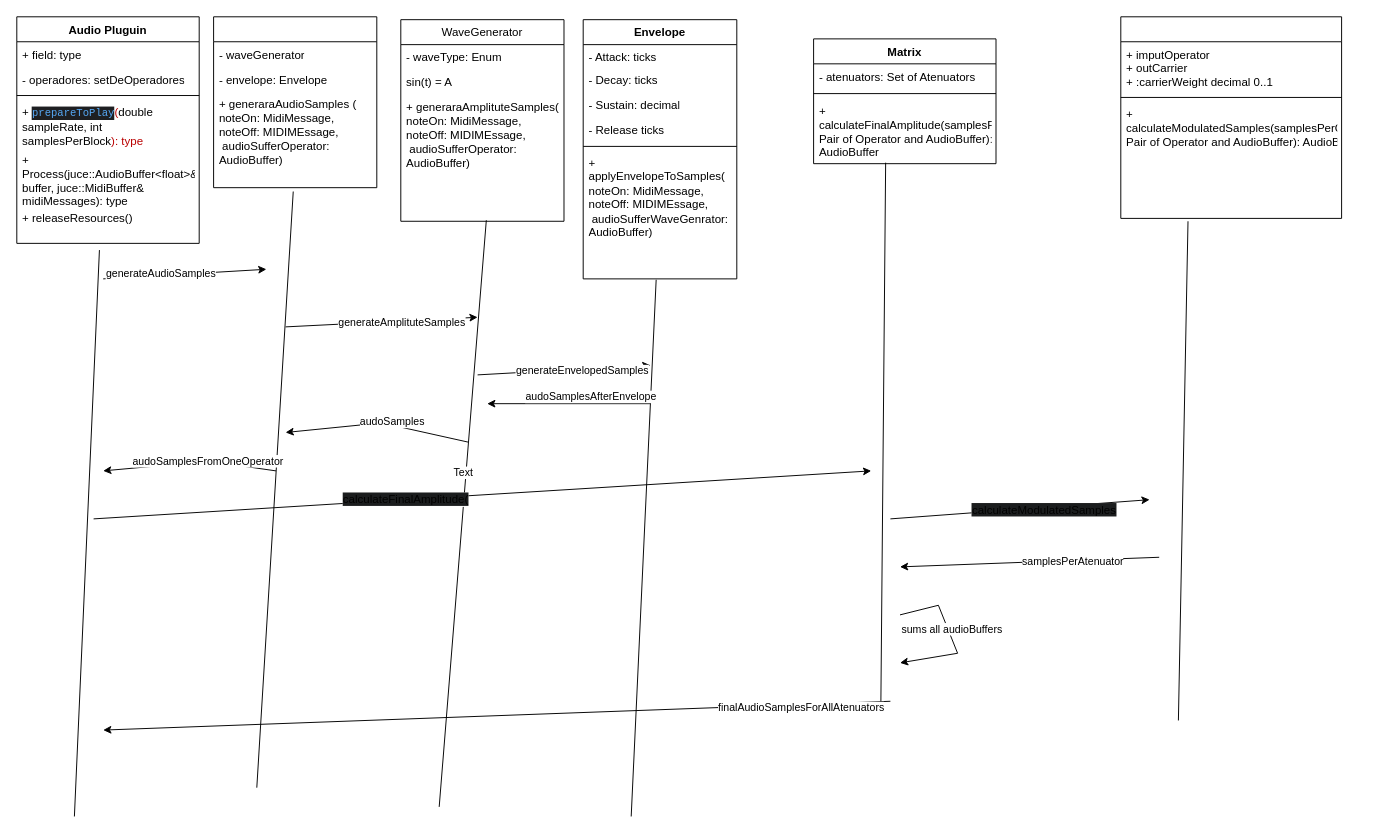
Some shapes in this 1400 by 834 pixel diagram are drawn without their labels. The box of each missing label's shape, as (x1, y1, x2, y2) in pixels:
Atenuator: (1120, 16, 1342, 218)
operador: (213, 16, 377, 188)
